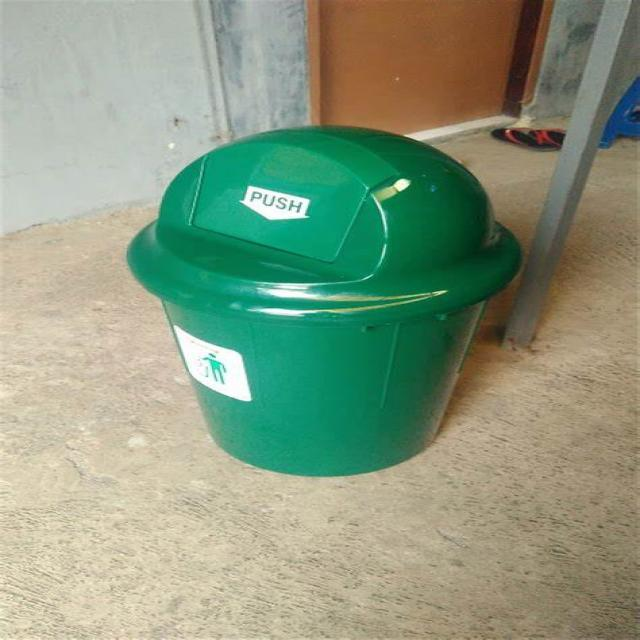garbage container: (95, 125, 576, 478)
